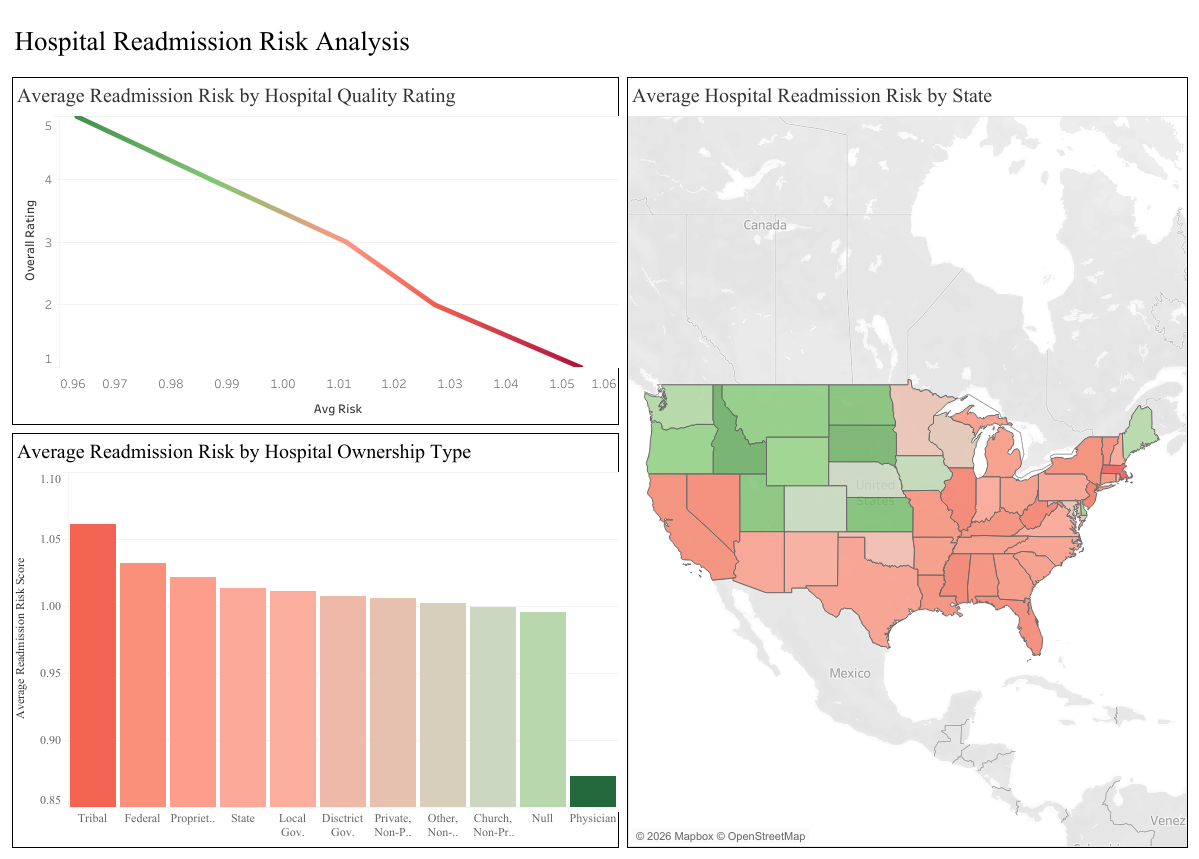

The page's visual inventory and layout, read from the dashboard file:
{"tool":"tableau","page":{"name":"Dashboard 1","canvas":[1000,1000],"units":"permille","ordinal":0},"visuals":[{"type":"text","box":[6.7,9.3,986.7,75.8]},{"type":"worksheet","title":"Risk by Hospital Rating","mark":"Line","rows":["overall_rating"],"cols":["avg_risk"],"box":[6.7,85.1,512.5,414.3]},{"type":"worksheet","title":"Average Hospital Readmission Risk by State","mark":"Multipolygon","box":[519.2,85.1,474.2,905.6]},{"type":"worksheet","title":"Average Readmission Risk by Hospital Ownership","mark":"Automatic","rows":["avg_risk"],"cols":["hospital_ownership"],"box":[6.7,499.4,512.5,491.3]}]}

Visuals, with their boxes on the dashboard's canvas, which has no fixed pixel size, in thousandths of its width and height (x1, y1, x2, y2). These are canvas units, not pixel positions in the 1199x859 screenshot, which may show the page scaled, cropped or inside an application window:
text: 7 9 993 85
"Risk by Hospital Rating" worksheet (Line marks): 7 85 519 499
"Average Hospital Readmission Risk by State" worksheet (Multipolygon marks): 519 85 993 991
"Average Readmission Risk by Hospital Ownership" worksheet: 7 499 519 991
